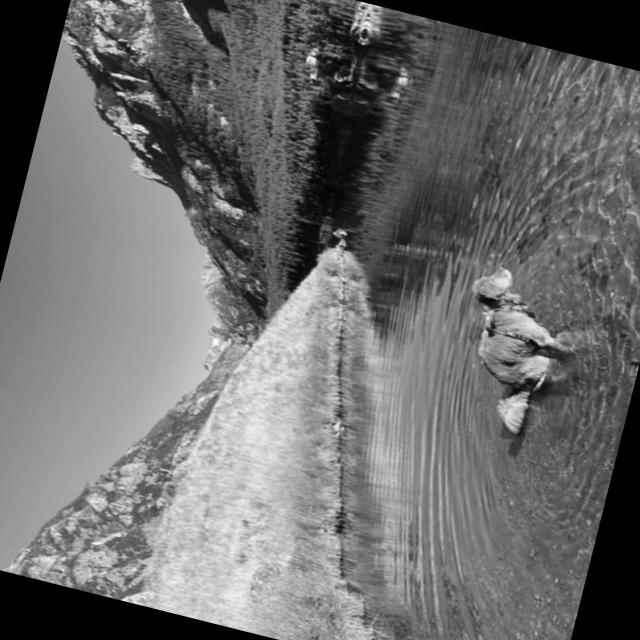squatting: (430, 252, 597, 447)
